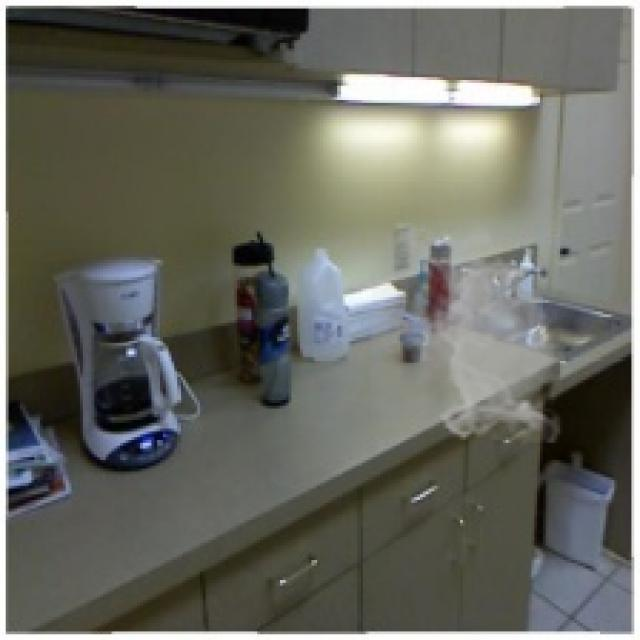smoke: (372, 217, 572, 443)
